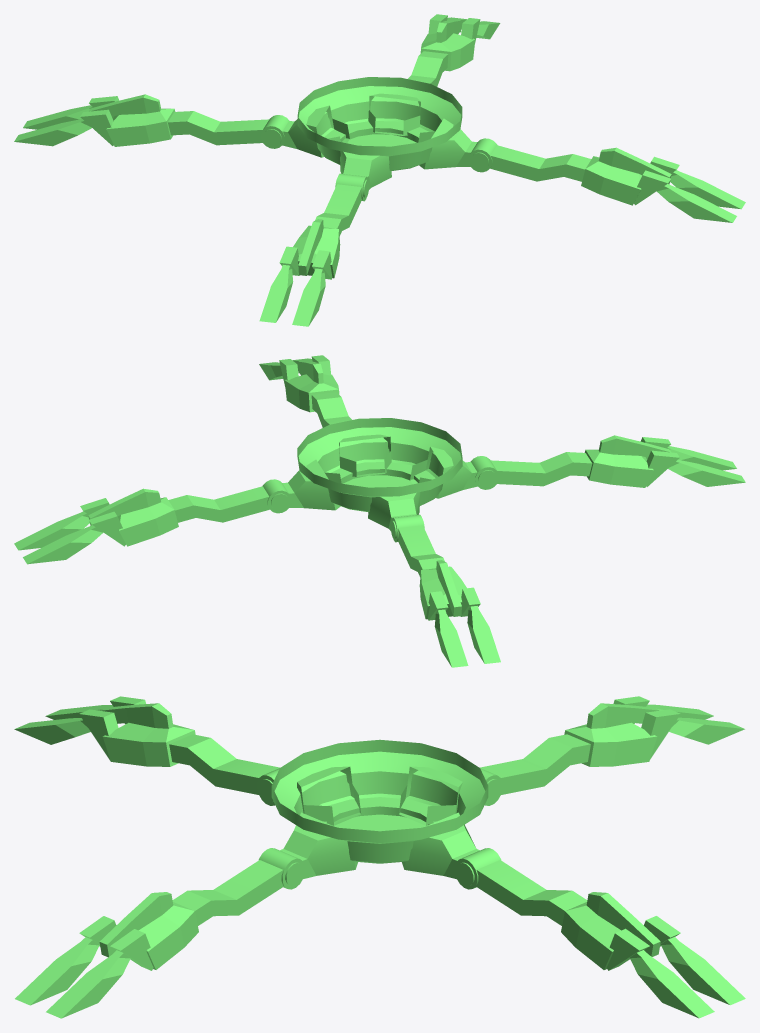
File: Cockpit_Legs.FBX
3 views of the same model, one above another, from view 1: azimuth 30°, elevation 25°; view 2: azimuth 150°, elevation 25°; view 3: azimuth 270°, elevation 25° (orthographic). The views are drawn at different scales.
Parts seen in each view (by area): view 1: turret_legs; view 2: turret_legs; view 3: turret_legs.
Part boxes in pixels (x1,y1,x2,y2): turret_legs: [14, 14, 745, 326]; turret_legs: [14, 355, 745, 667]; turret_legs: [14, 696, 745, 1018].
Size of the model in its own units: 838 by 99.17 by 838.
